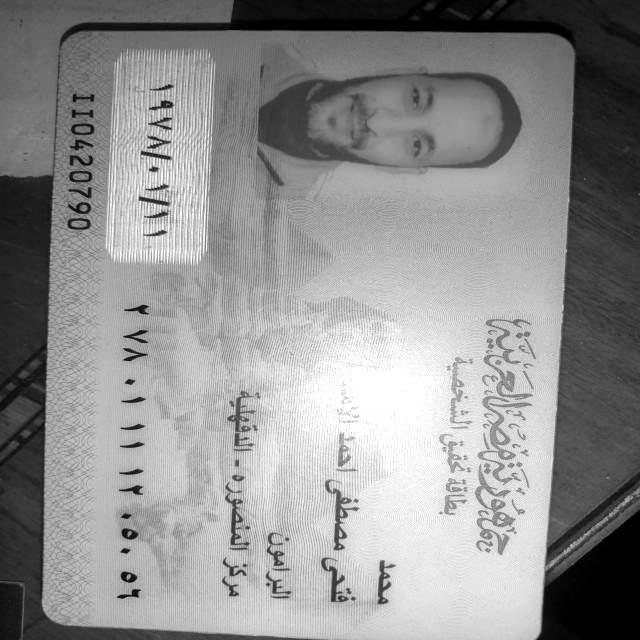front: (43, 30, 574, 639)
